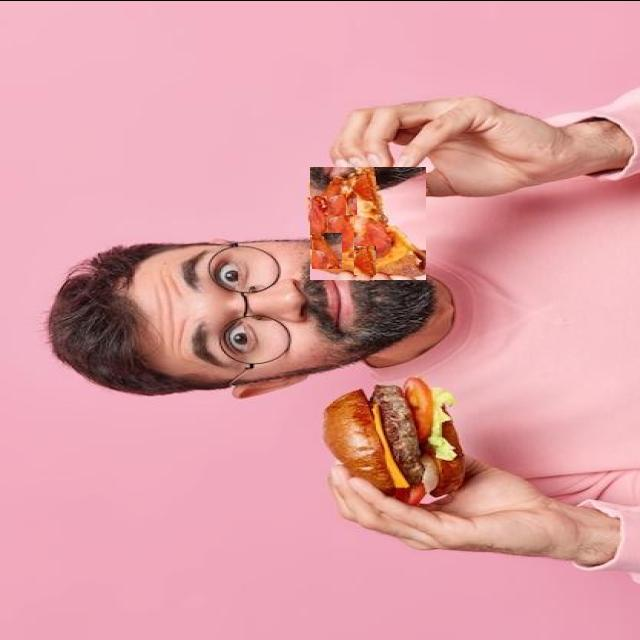pepperoni: (355, 188, 393, 227), (312, 232, 342, 268), (326, 214, 354, 252), (310, 195, 328, 236), (354, 245, 376, 274), (346, 192, 357, 214)
pizza: (310, 166, 426, 279)
